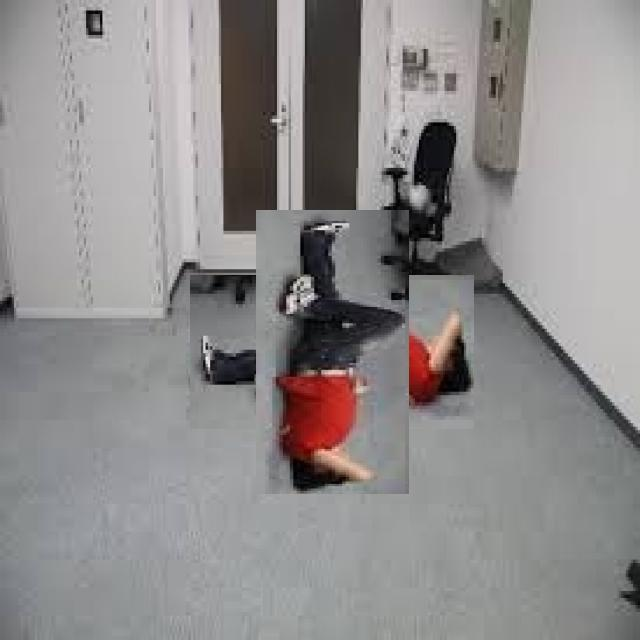Fall: (250, 216, 401, 494)
